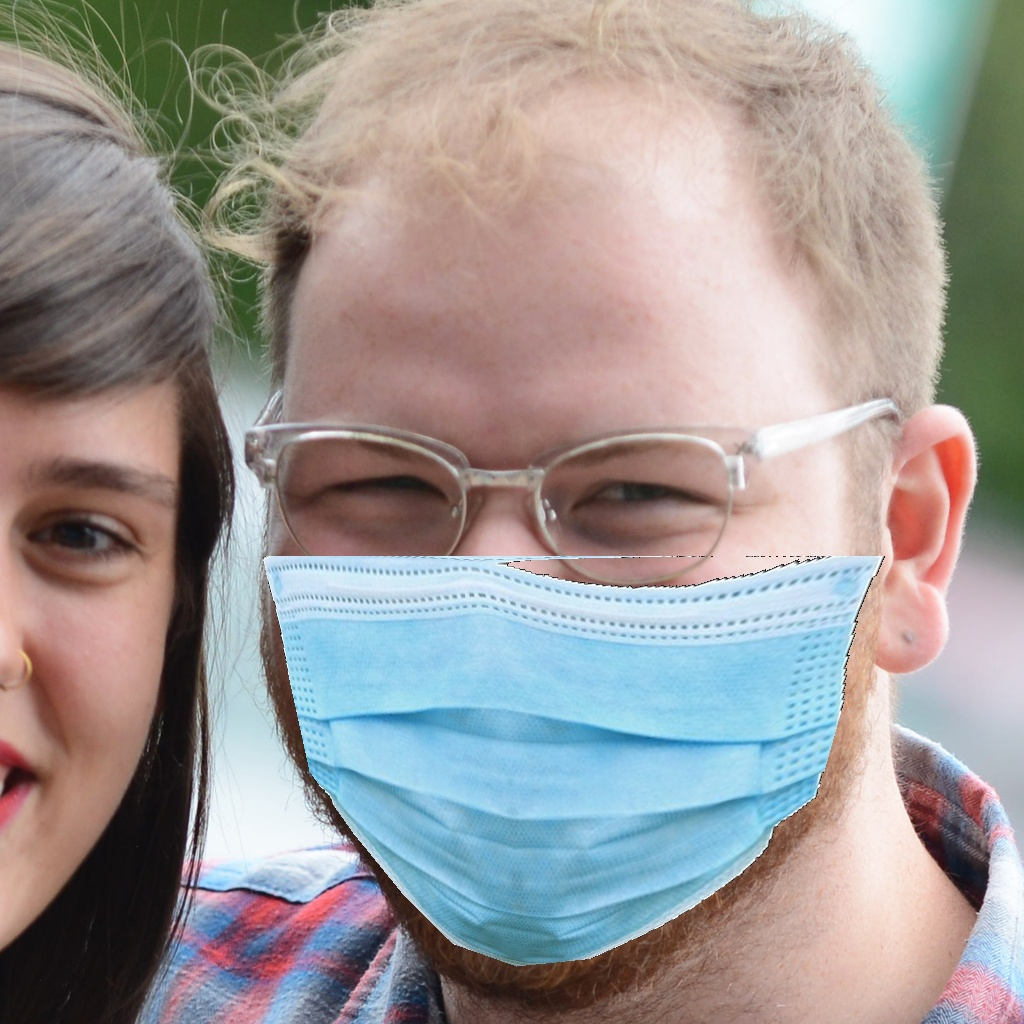with_mask: (256, 438, 856, 973)
